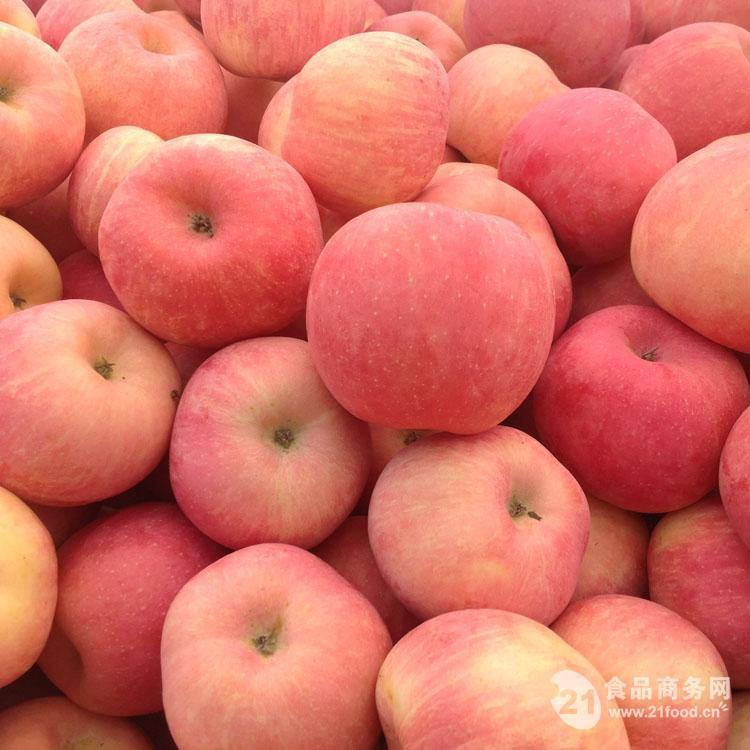apple: (306, 198, 562, 436), (158, 541, 392, 743), (96, 131, 321, 339), (532, 302, 749, 513), (367, 422, 589, 628), (167, 332, 373, 549), (1, 299, 181, 515), (33, 497, 207, 717), (376, 604, 618, 746), (492, 83, 679, 266), (547, 591, 734, 748), (285, 29, 447, 204), (629, 127, 750, 359), (58, 11, 229, 138), (1, 18, 85, 208)
